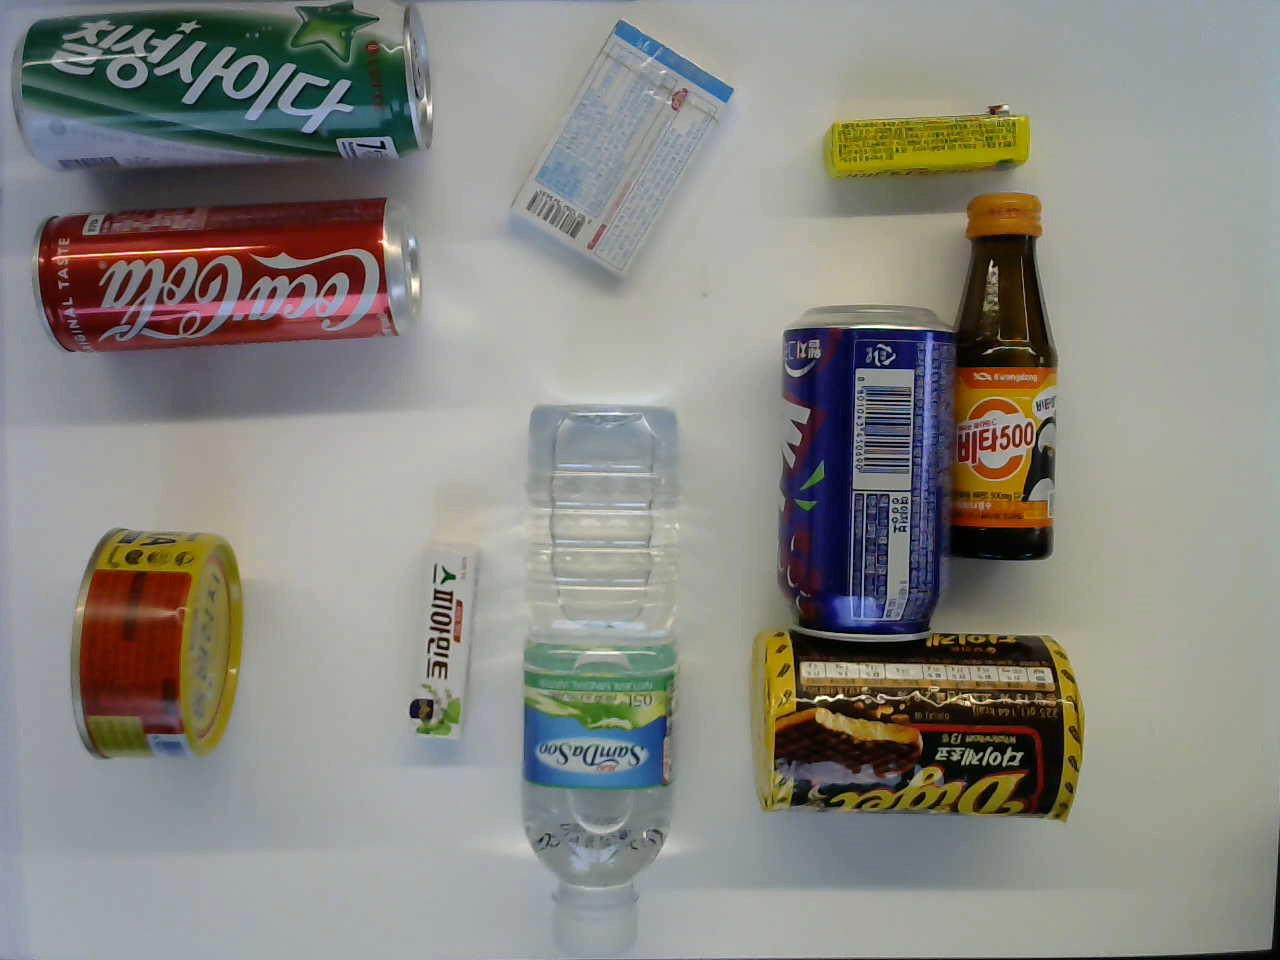ID_gum: (503, 19, 735, 288)
cidar: (11, 11, 434, 175)
coke: (25, 199, 421, 359)
diget_choco: (754, 619, 1091, 831)
juicyfresh: (823, 102, 1031, 187)
samdasu: (523, 403, 676, 949)
spearmint: (397, 538, 488, 759)
tuna: (62, 521, 243, 762)
vita500: (953, 188, 1063, 560)
welchs: (775, 301, 957, 641)
